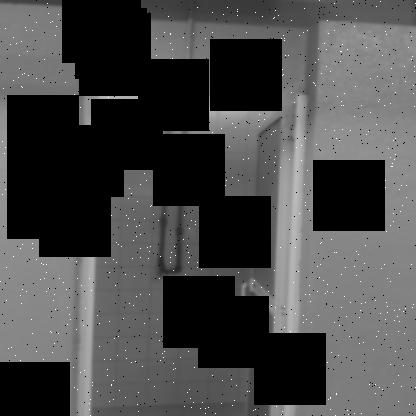Porte: (74, 85, 308, 415)
